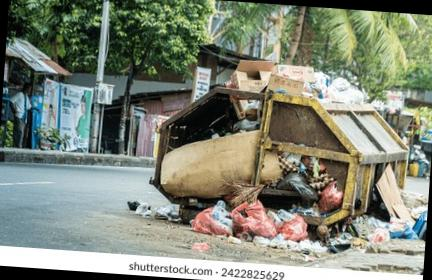road: (0, 163, 298, 264)
trash: (160, 129, 258, 198), (276, 171, 343, 213), (231, 200, 277, 238), (191, 200, 232, 235), (278, 214, 308, 241), (261, 152, 282, 182), (367, 227, 390, 242), (267, 210, 282, 226), (278, 209, 295, 221)
